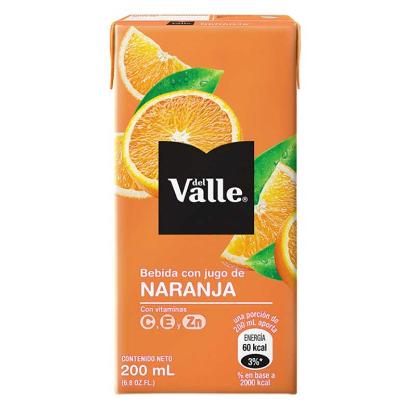Others: (104, 8, 306, 402)
